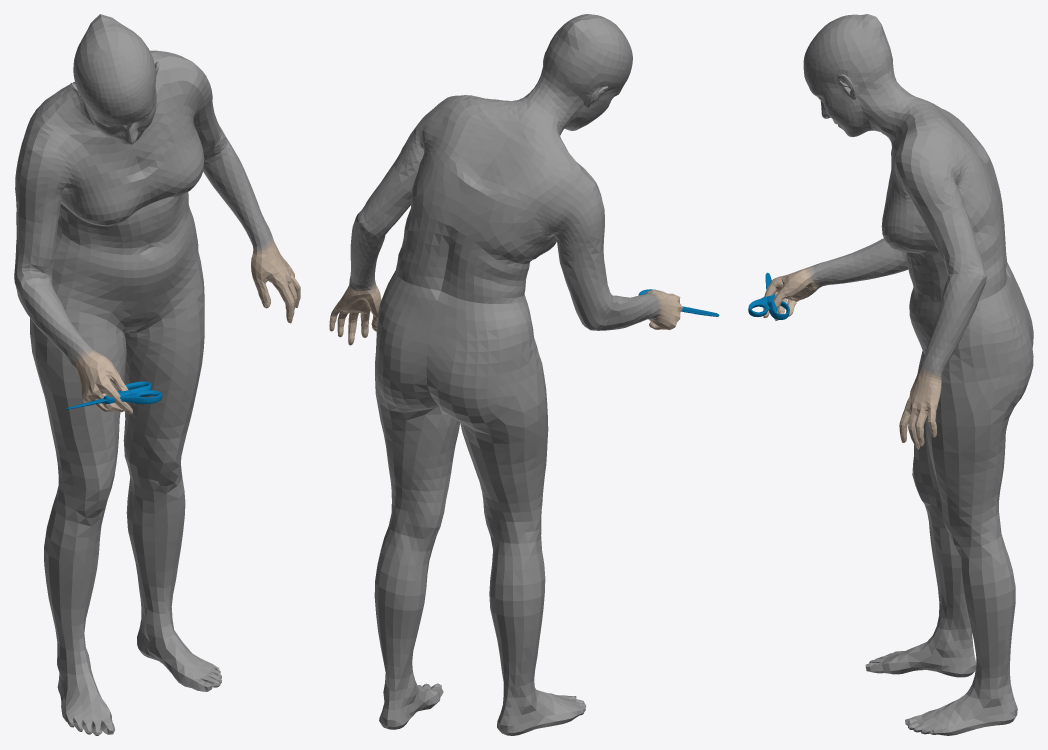
File: ood_pick_scissors_full_0.glb
3 views of the same model, side by side, from view 1: azimuth 30°, elevation 25°; view 2: azimuth 150°, elevation 25°; view 3: azimuth 270°, elevation 25° (orthographic). The views are drawn at different scales.
Visible parts, largest first — view 1: ood_pick_scissors_full_0.obj; view 2: ood_pick_scissors_full_0.obj; view 3: ood_pick_scissors_full_0.obj.
Boxes of the visible parts, box(x1,y1,x2,y2) form: ood_pick_scissors_full_0.obj: box(14, 14, 300, 735); ood_pick_scissors_full_0.obj: box(329, 14, 719, 735); ood_pick_scissors_full_0.obj: box(748, 14, 1033, 735).
Bounding box in the file's own units: 0.7032 × 1.53 × 0.6017.
